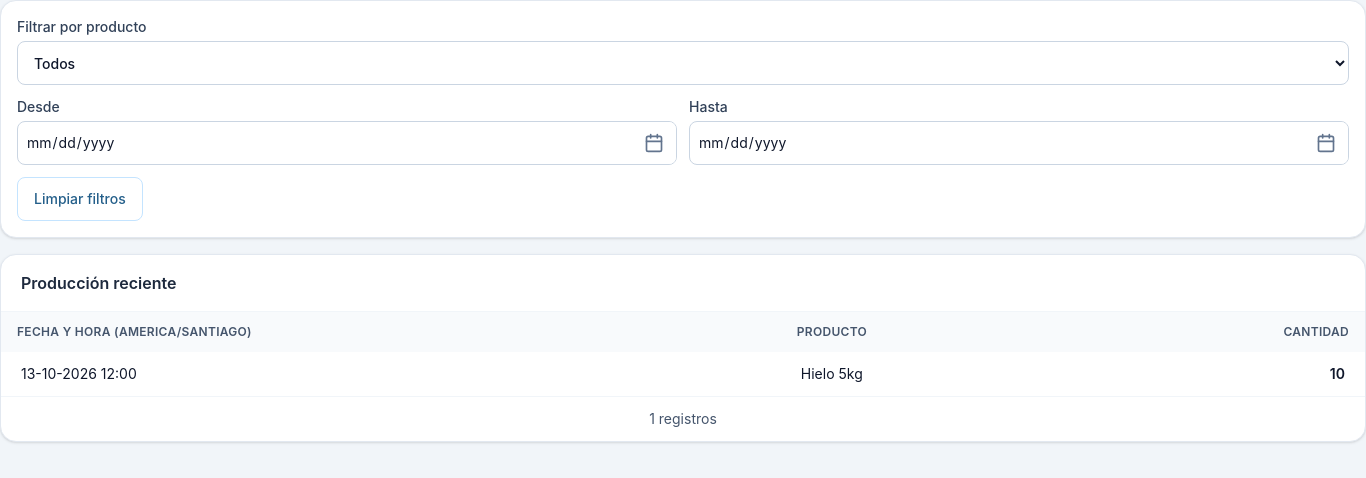
Scenario: F3 · ProduccionReciente › filtra por producto y fechas con la consulta de historial
Select "Agua 20L" in the dropdown labelled "Filtrar por producto" at point(683, 63), box left=17, top=41, right=1349, bottom=85
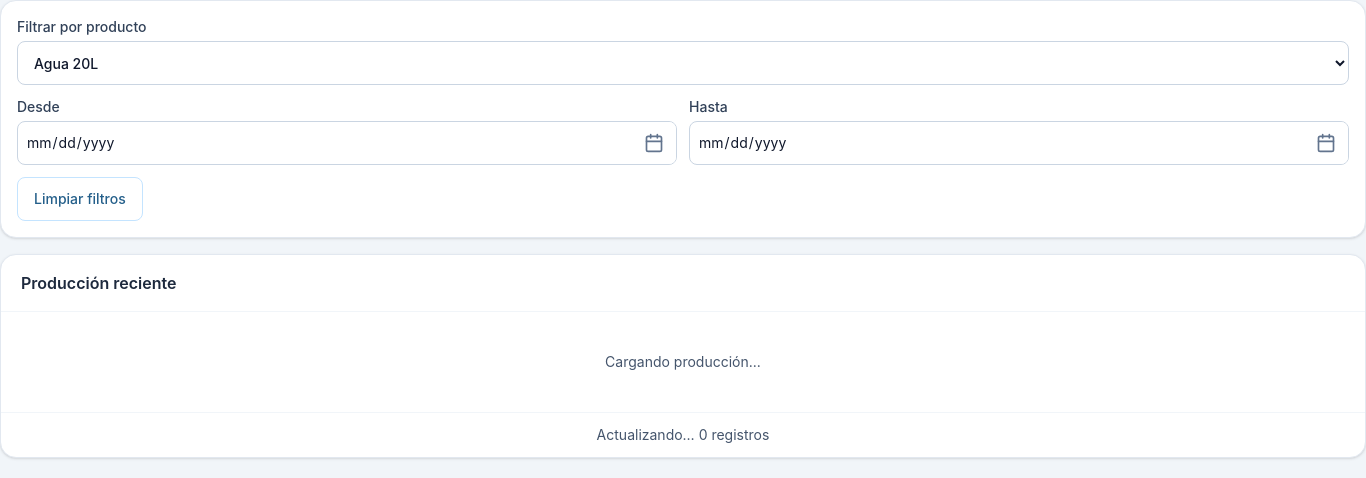
Type "2026-10-01" into the date field labelled "Desde" at point(347, 143), box left=17, top=121, right=677, bottom=165
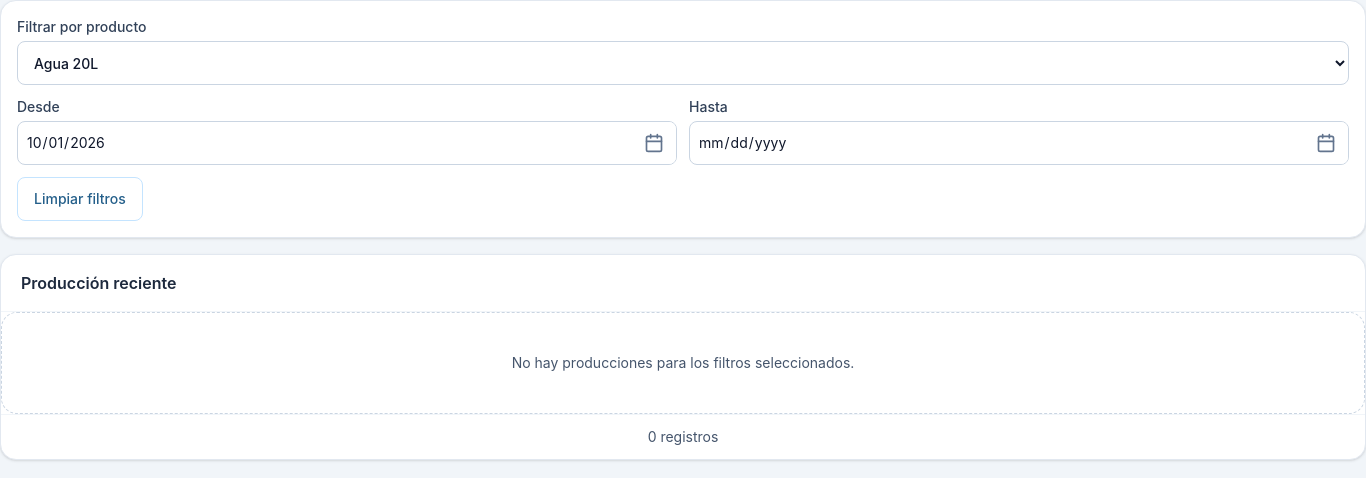
Expected: the text "No hay producciones para los filtros seleccionados." is shown, left=512, top=353, right=854, bottom=373
